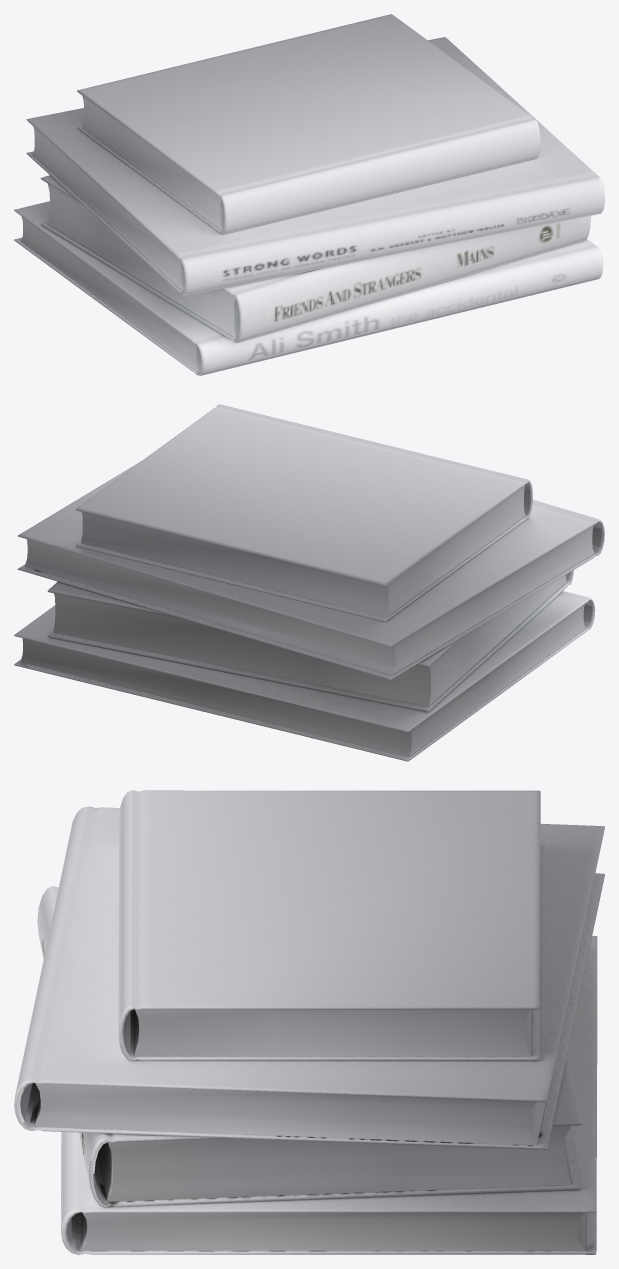
The model's file is book0007.glb.
3 renders of one model, top to bottom at view 1: azimuth 30°, elevation 25°; view 2: azimuth 150°, elevation 25°; view 3: azimuth 270°, elevation 25°, orthographic. The views are drawn at different scales.
Parts seen in each view (by area): view 1: books007; view 2: books007; view 3: books007.
Part boxes in pixels (x1,y1,x2,y2): books007: [14, 14, 604, 375]; books007: [14, 404, 604, 761]; books007: [14, 790, 604, 1254].
Bounding box in the file's own units: 297 × 103 × 252.
Materials: 1 (1 with a texture image).
